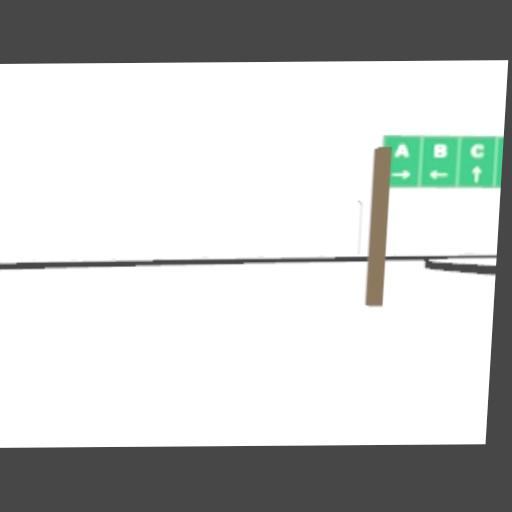A: (393, 143, 409, 157)
B: (434, 143, 448, 156)
C: (471, 143, 485, 158)
Left: (427, 171, 448, 179)
Right: (390, 169, 411, 179)
Straight: (471, 165, 482, 182)
